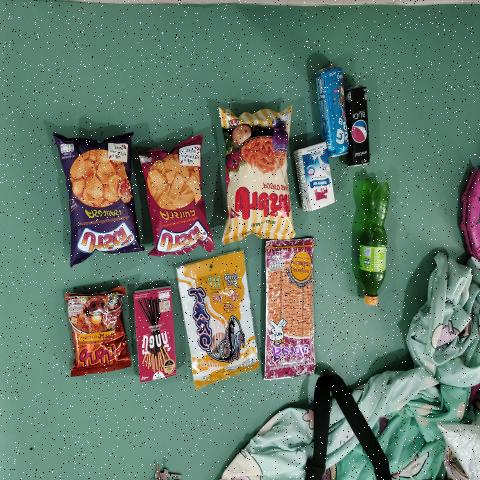bento_red: (269, 241, 312, 373)
fanta_green: (363, 176, 386, 308)
mama: (72, 300, 124, 364)
paprika: (227, 114, 288, 233)
party_purple: (66, 146, 132, 252)
party_red: (144, 158, 204, 251)
pepsi_black: (348, 91, 368, 163)
pepsi_blue: (314, 69, 348, 158)
pokki: (136, 294, 172, 376)
taro_yellow: (180, 270, 254, 373)
thai_denmark: (304, 140, 327, 210)
